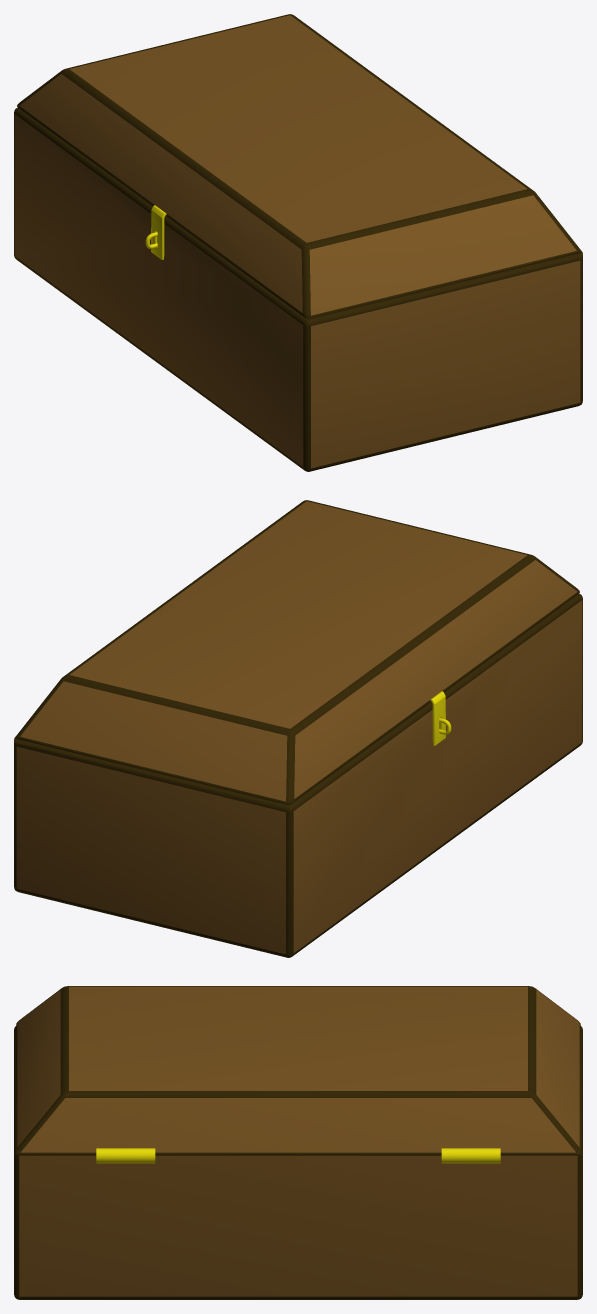
The model's file is skrzynak.fbx.
The picture shows the model from 3 angles, top to bottom: view 1: azimuth 30°, elevation 25°; view 2: azimuth 150°, elevation 25°; view 3: azimuth 270°, elevation 25°; orthographic projection. The views are drawn at different scales.
Visible parts, largest first — view 1: Cube.001, Cube; view 2: Cube.001, Cube; view 3: Cube.001, Cube, Cylinder.
Part boxes in pixels (bbox=[...]): Cube.001: bbox=[17, 14, 582, 318]; Cube: bbox=[14, 107, 582, 471]; Cube.001: bbox=[14, 500, 579, 804]; Cube: bbox=[14, 593, 582, 957]; Cube.001: bbox=[16, 986, 580, 1153]; Cube: bbox=[14, 1026, 582, 1299]; Cylinder: bbox=[96, 1148, 500, 1163].
Bounding box in the file's own units: 217 × 140 × 366.
